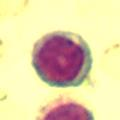lymphocyte: (30, 30, 96, 88)
